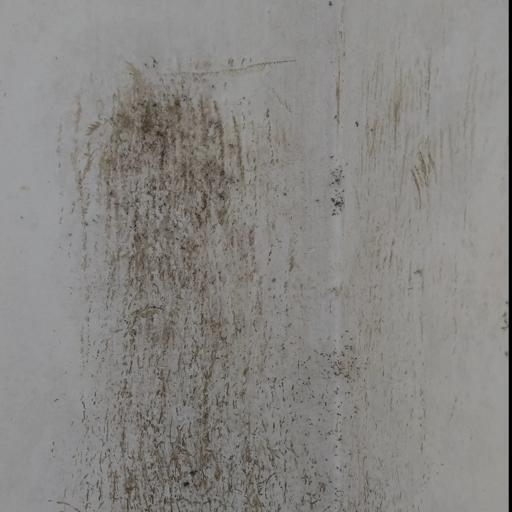stain: (41, 50, 508, 512)
